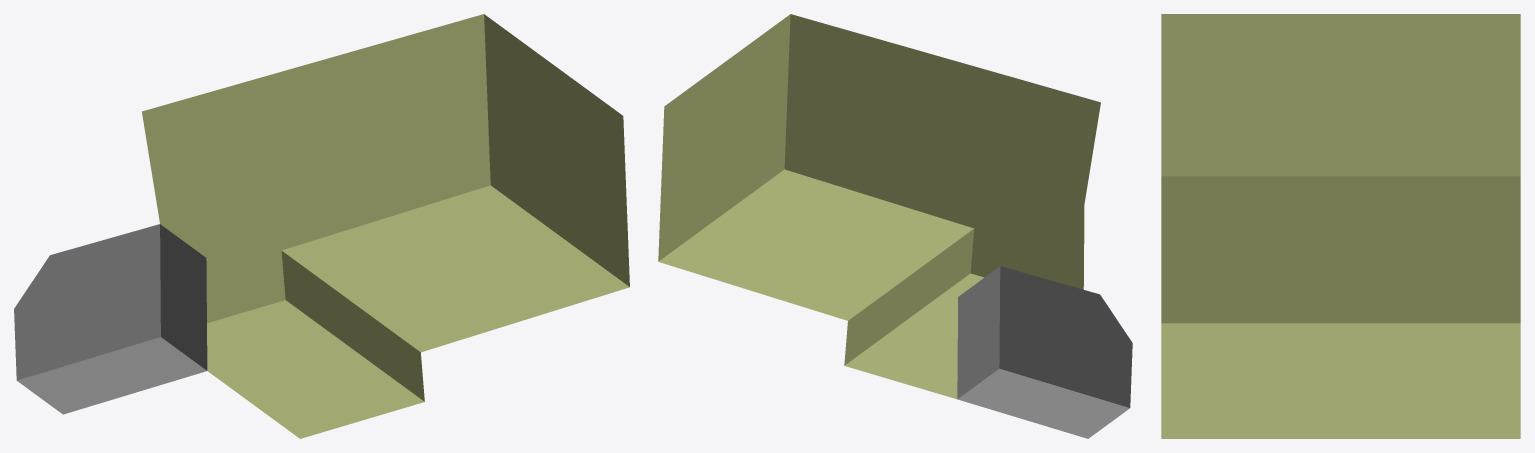
3 views of the same model, side by side, from view 1: azimuth 30°, elevation 25°; view 2: azimuth 150°, elevation 25°; view 3: azimuth 270°, elevation 25° (orthographic). The views are drawn at different scales.
Visible parts, largest first — view 1: 0_1_1_3_3_0_3_0_2_1; view 2: 0_1_1_3_3_0_3_0_2_1; view 3: 0_1_1_3_3_0_3_0_2_1.
Part boxes in pixels (left/top/right/bottom): 0_1_1_3_3_0_3_0_2_1: left=14, top=14, right=629, bottom=438; 0_1_1_3_3_0_3_0_2_1: left=658, top=14, right=1132, bottom=438; 0_1_1_3_3_0_3_0_2_1: left=1161, top=14, right=1520, bottom=438.
Size of the model in its own units: 17.79 by 9.01 by 9.
